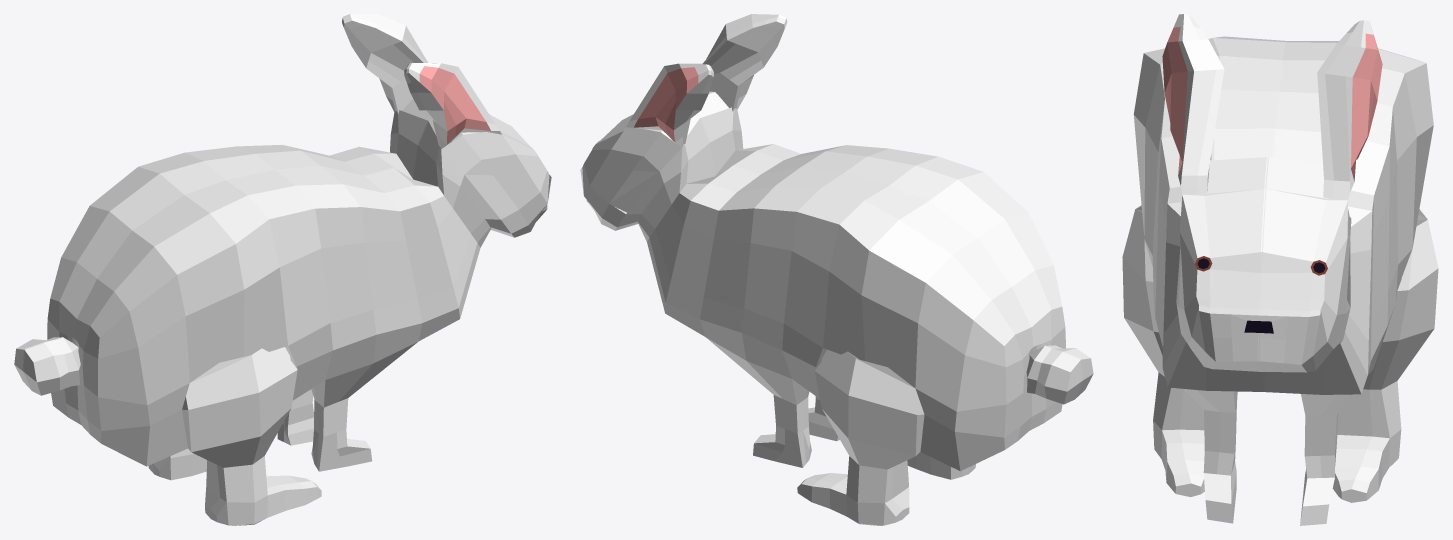
Rendered from Rabbit_V2.2.glb.
The picture shows the model from 3 angles, left to right: view 1: azimuth 30°, elevation 25°; view 2: azimuth 150°, elevation 25°; view 3: azimuth 270°, elevation 25°; orthographic projection. The views are drawn at different scales.
Parts seen in each view (by area): view 1: Plane; view 2: Plane; view 3: Plane.
Part boxes in pixels (x1,y1,x2,y2): Plane: (14, 14, 551, 525); Plane: (580, 14, 1093, 525); Plane: (1122, 14, 1438, 525).
Bounding box in the file's own units: 8.44 × 6.71 × 3.49.
1 material, 1 textured.
